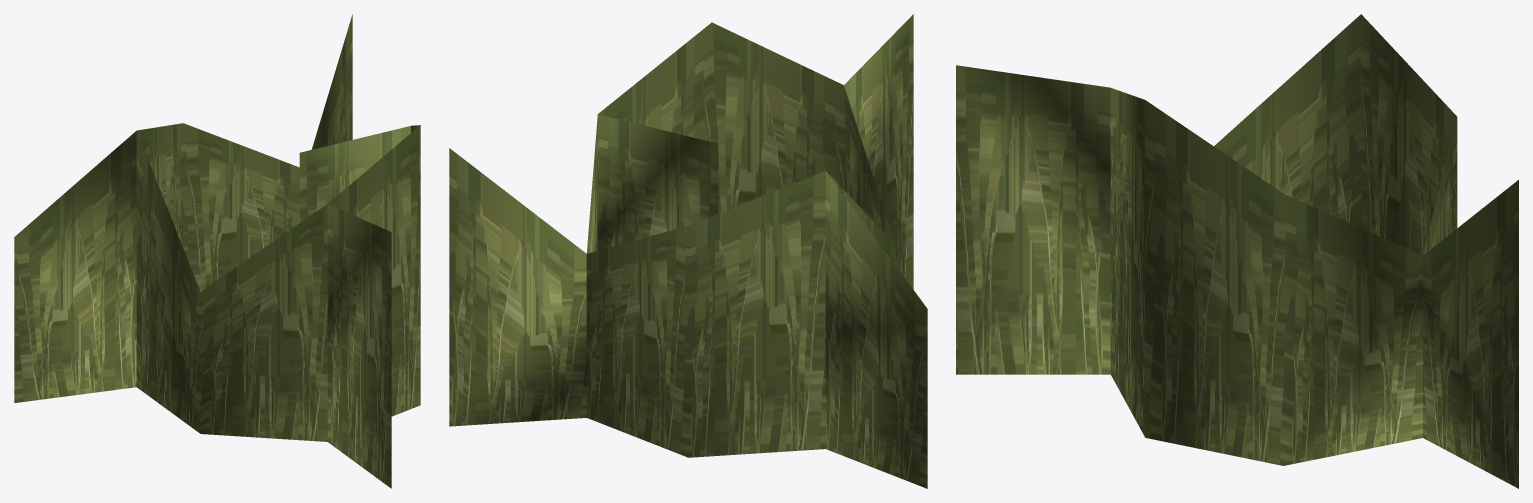
The model's file is mveg1at.glb.
3 views of the same model, side by side, from view 1: azimuth 30°, elevation 25°; view 2: azimuth 150°, elevation 25°; view 3: azimuth 270°, elevation 25° (orthographic). The views are drawn at different scales.
Parts seen in each view (by area): view 1: _mveg1at; view 2: _mveg1at; view 3: _mveg1at.
Boxes of the visible parts, box(x1,y1,x2,y2) form: _mveg1at: box(14, 14, 420, 488); _mveg1at: box(449, 14, 927, 488); _mveg1at: box(956, 14, 1518, 488).
Size of the model in its own units: 4.71 by 3.24 by 4.89.
Materials: 1 (1 with a texture image).
